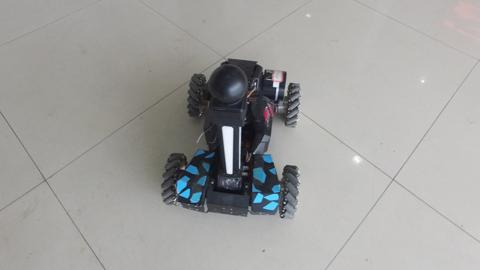chariot: (160, 41, 310, 223)
